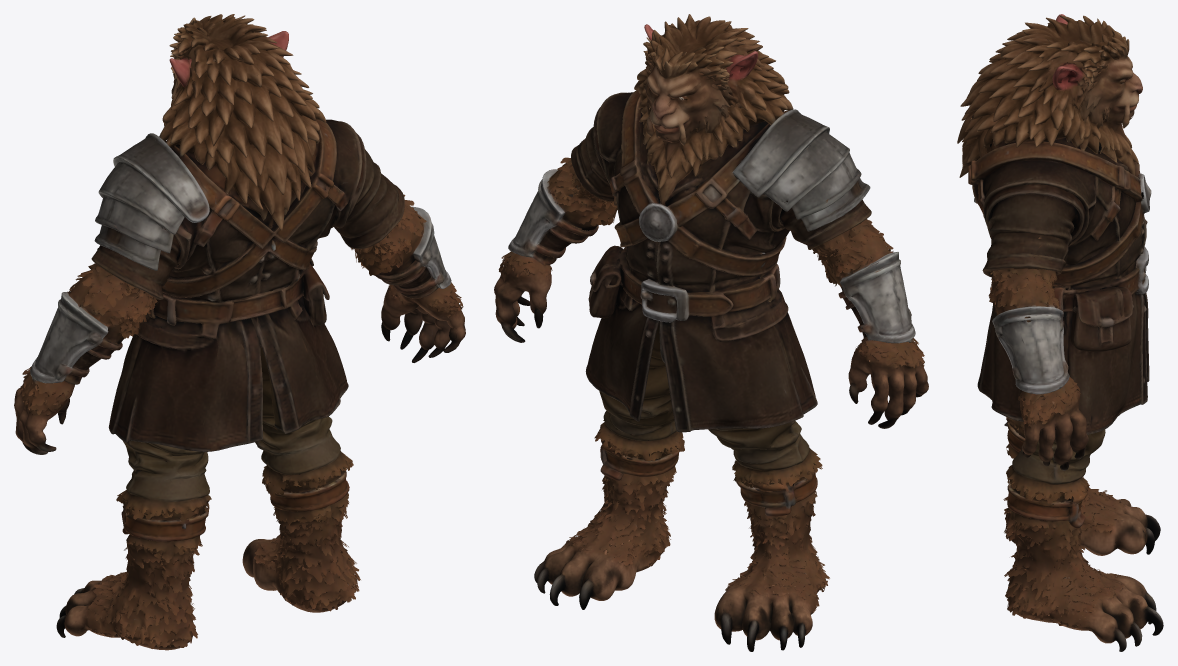
Rendered from BeastfolkWarrior.fbx.
3 renders of one model, left to right at view 1: azimuth 30°, elevation 25°; view 2: azimuth 150°, elevation 25°; view 3: azimuth 270°, elevation 25°, orthographic. The views are drawn at different scales.
Visible parts, largest first — view 1: Art scale and orientation; view 2: Art scale and orientation; view 3: Art scale and orientation.
Part boxes in pixels (x1=…): Art scale and orientation: x1=14, y1=14, x2=465, y2=650; Art scale and orientation: x1=494, y1=14, x2=928, y2=651; Art scale and orientation: x1=957, y1=14, x2=1163, y2=651.
Bounding box in the file's own units: 144 × 185 × 61.97.
1 material, 1 textured.
